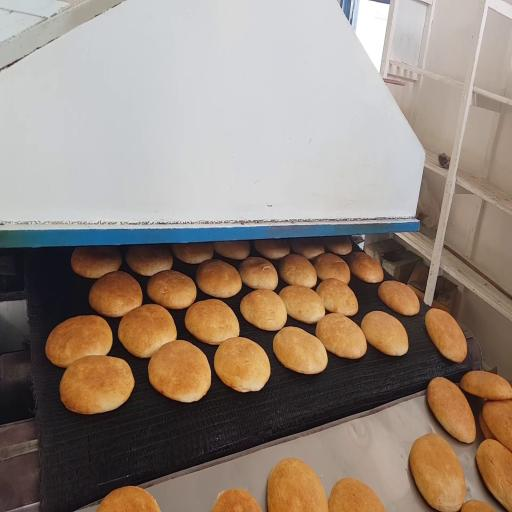bread: (60, 356, 134, 414), (410, 434, 465, 511), (148, 340, 211, 402), (46, 315, 112, 367), (427, 377, 476, 443), (267, 458, 328, 511), (118, 304, 176, 357), (214, 338, 270, 392), (273, 327, 327, 374), (476, 439, 511, 511), (89, 271, 142, 317), (185, 300, 239, 344), (316, 313, 366, 359), (425, 309, 467, 362), (361, 311, 408, 356), (240, 289, 287, 330), (147, 270, 196, 309), (329, 478, 385, 511), (196, 260, 241, 298), (279, 286, 325, 323), (71, 247, 122, 278), (316, 279, 358, 316), (98, 487, 160, 511), (460, 371, 511, 400), (126, 245, 173, 276), (483, 401, 511, 451), (378, 281, 419, 315), (239, 257, 278, 290), (279, 255, 317, 287), (348, 252, 383, 283), (314, 253, 350, 283), (212, 490, 261, 511), (172, 243, 213, 264), (253, 239, 290, 260), (290, 238, 324, 259), (214, 241, 250, 259), (323, 236, 352, 256), (479, 412, 495, 439), (461, 500, 495, 511)
